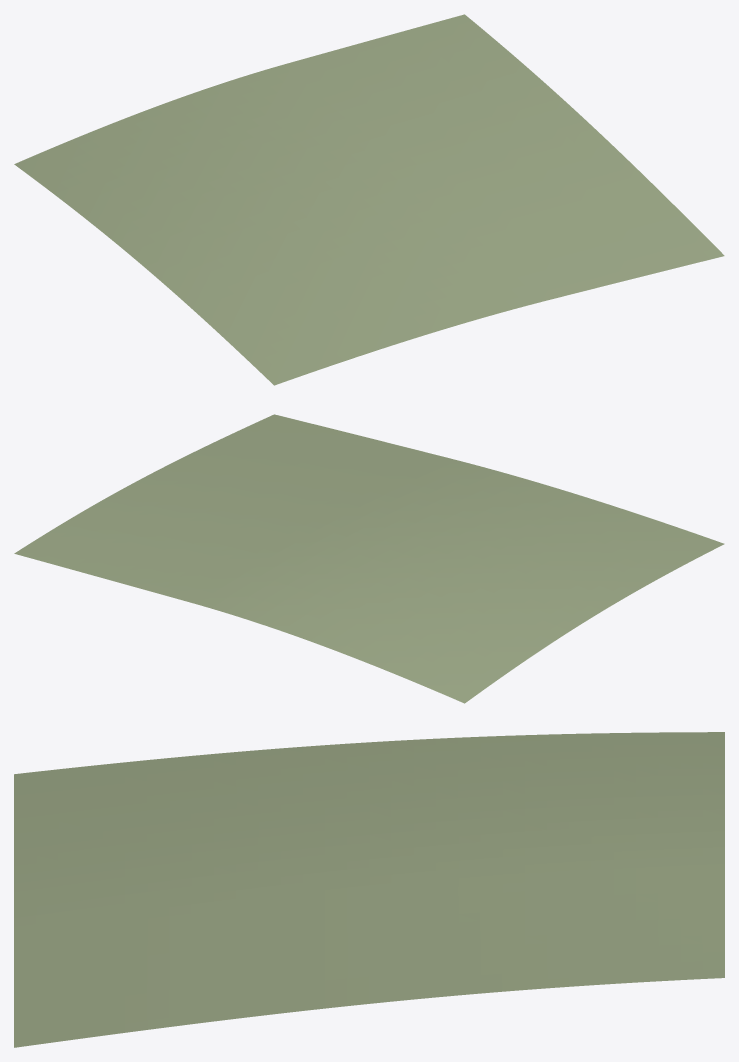
Rendered from desert-24-10.glb.
3 views of the same model, one above another, from view 1: azimuth 30°, elevation 25°; view 2: azimuth 150°, elevation 25°; view 3: azimuth 270°, elevation 25° (orthographic). The views are drawn at different scales.
Visible parts, largest first — view 1: desert-24-10; view 2: desert-24-10; view 3: desert-24-10.
Part boxes in pixels (<box>): desert-24-10: <box>14,14,724,385</box>; desert-24-10: <box>14,414,724,703</box>; desert-24-10: <box>14,732,724,1047</box>.
Size of the model in its own units: 512 by 76.83 by 512.
